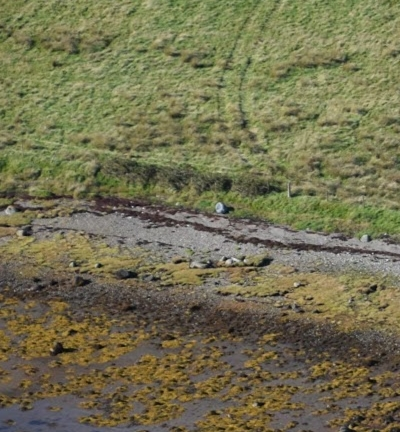white_in_green: (195, 185, 243, 226)
